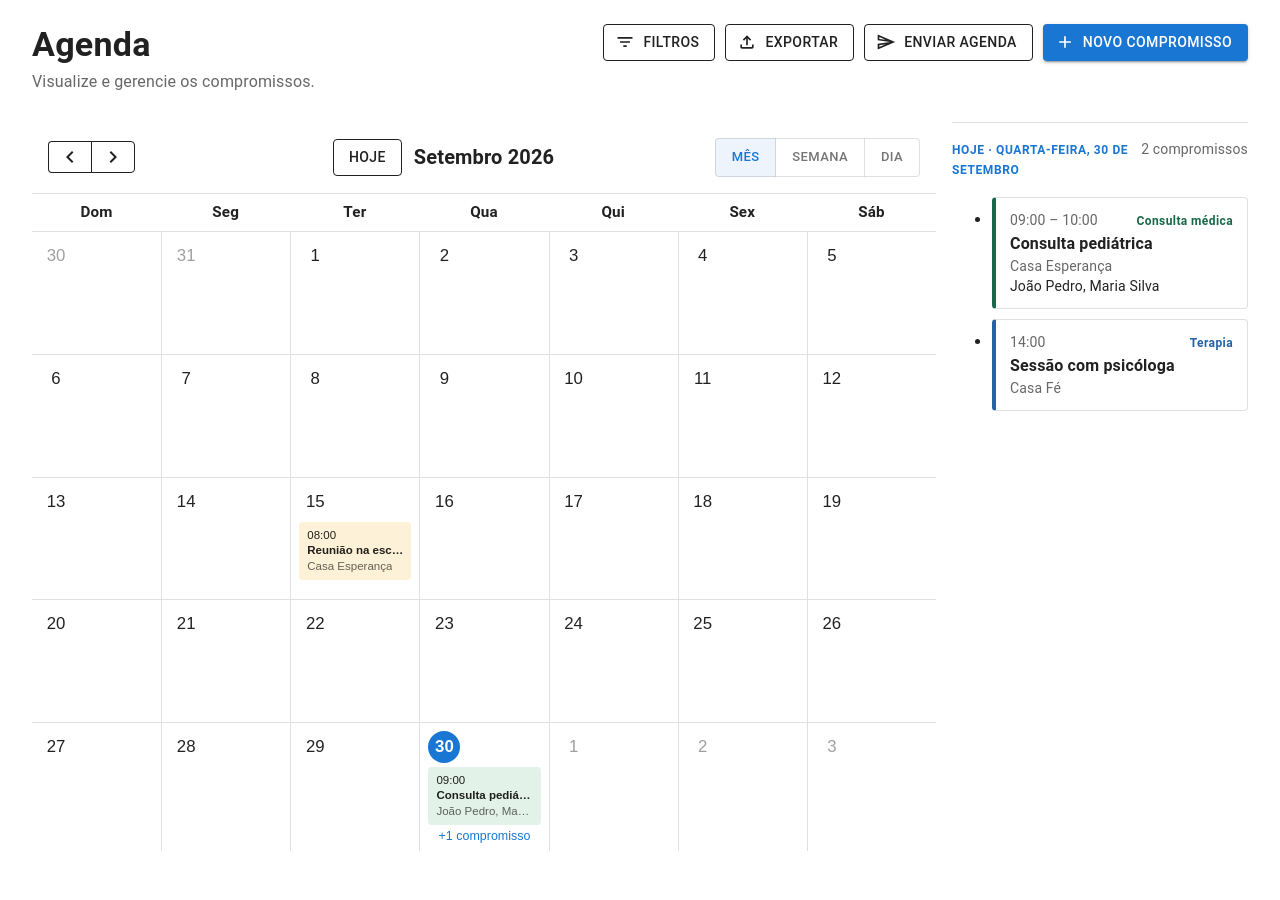
Scenario: AgendaPage › busca o mês seguinte selecionando o dia 1, e volta para hoje
Expected: the text "Consulta pediátrica" below "Hoje · quarta-feira, 30 de setembro" is shown, left=1010, top=234, right=1153, bottom=253
Click the button named "Próximo mês" at (113, 157), box left=91, top=141, right=135, bottom=173
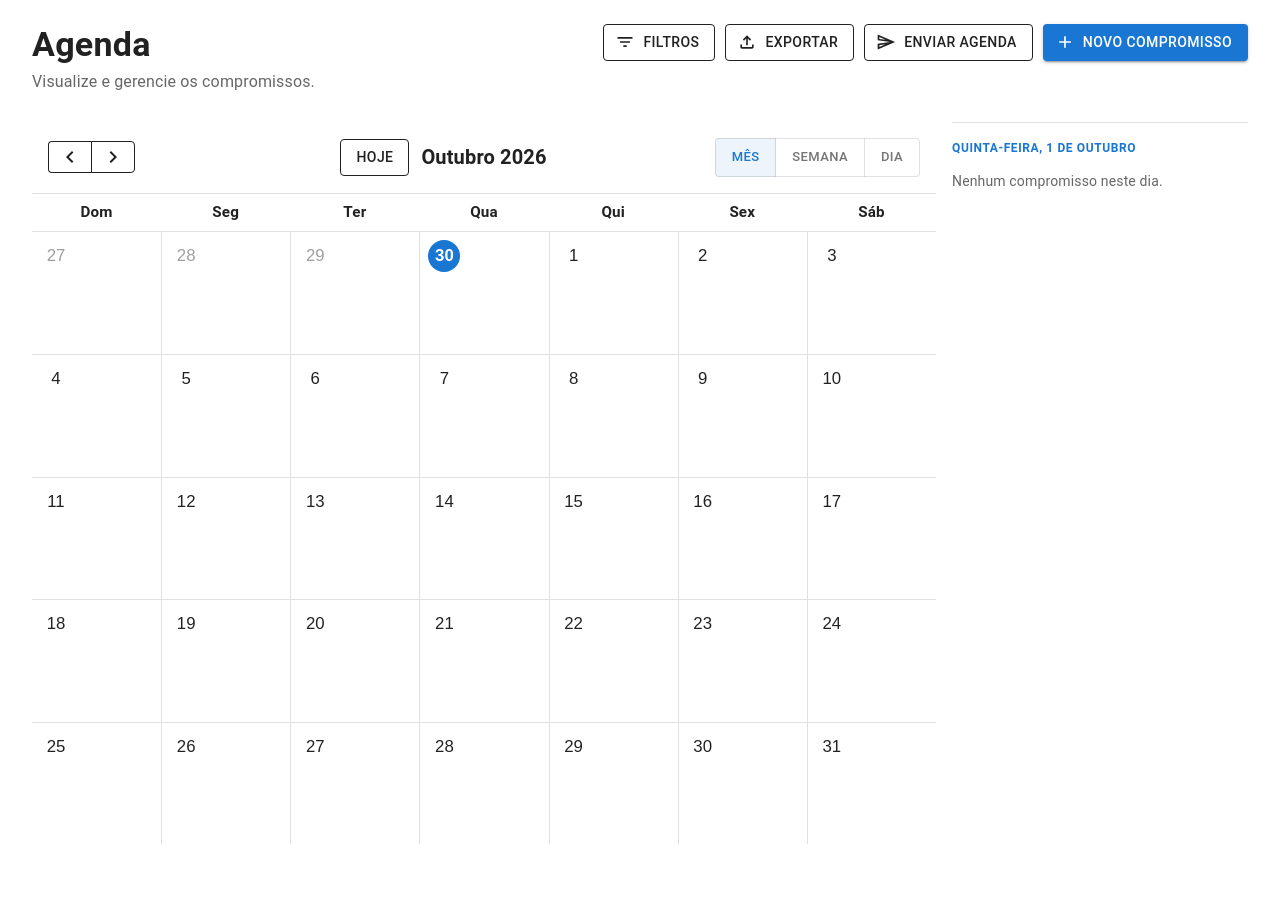
Expected: the heading "Outubro 2026" is shown, left=421, top=141, right=547, bottom=173
Expected: the heading "Quinta-feira, 1 de outubro" is shown, left=952, top=139, right=1136, bottom=159
Click the button "Hoje" at (375, 157), box left=340, top=139, right=409, bottom=176
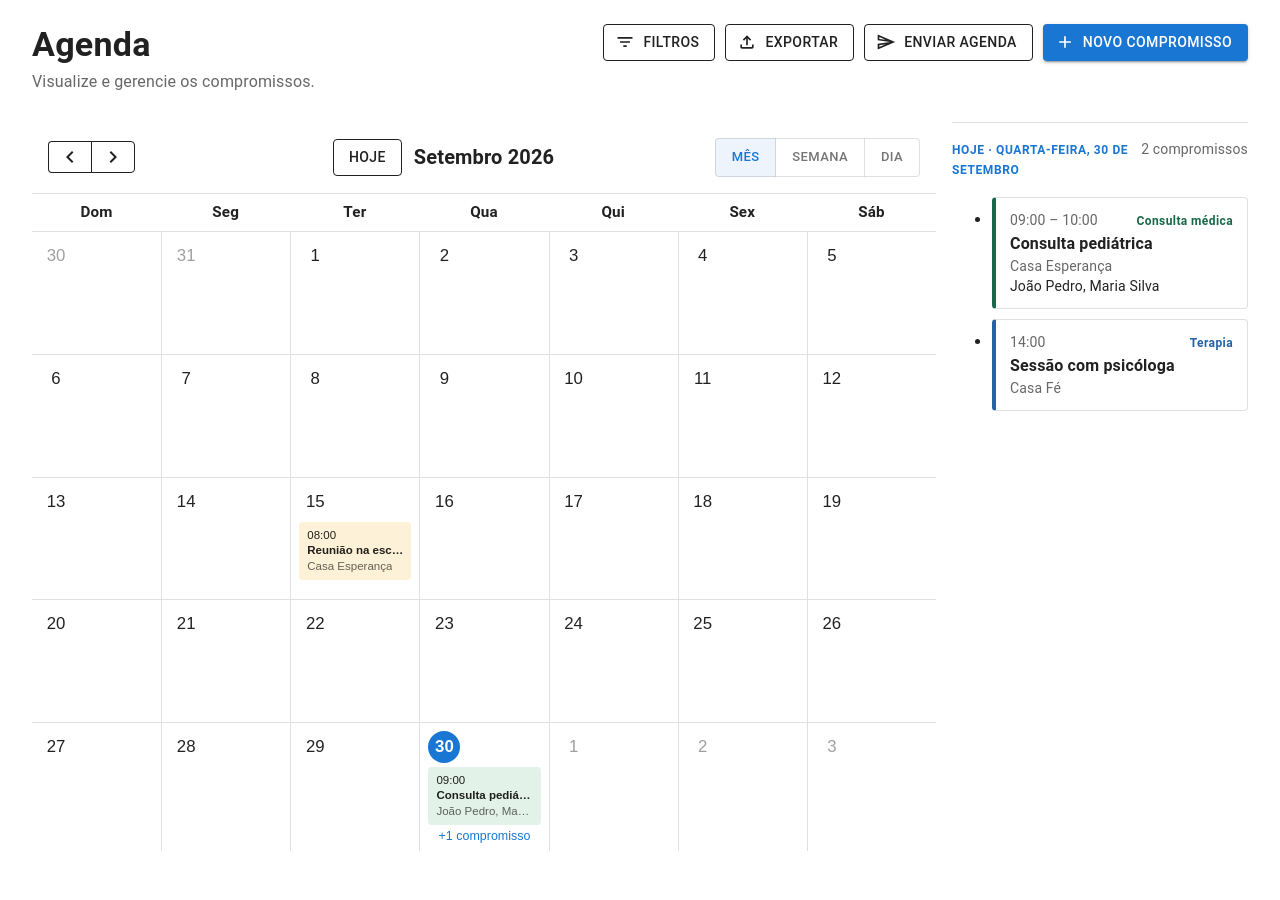
Expected: the heading "Setembro 2026" is shown, left=414, top=141, right=554, bottom=173
Expected: the heading "Hoje · quarta-feira, 30 de setembro" is shown, left=952, top=141, right=1129, bottom=181
